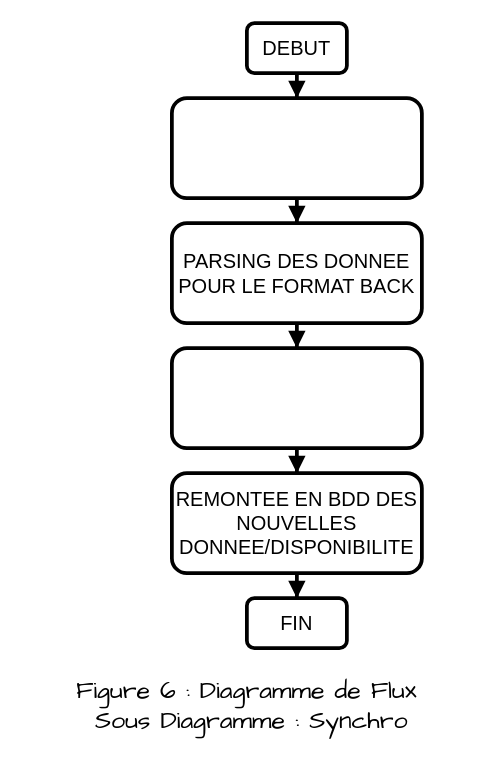
This 493x758 diagram has some shape labels left out. Here are the shapes that lost their labels. From the top down, the centre of each, then its label:
the point at 296,147: REMONTEE DES DONNEE PRESENTES DANS LA BDD
the point at 296,397: COMPARAISON BACK/NOUVELLE DONNEE/ "DISPONIBILITE"
